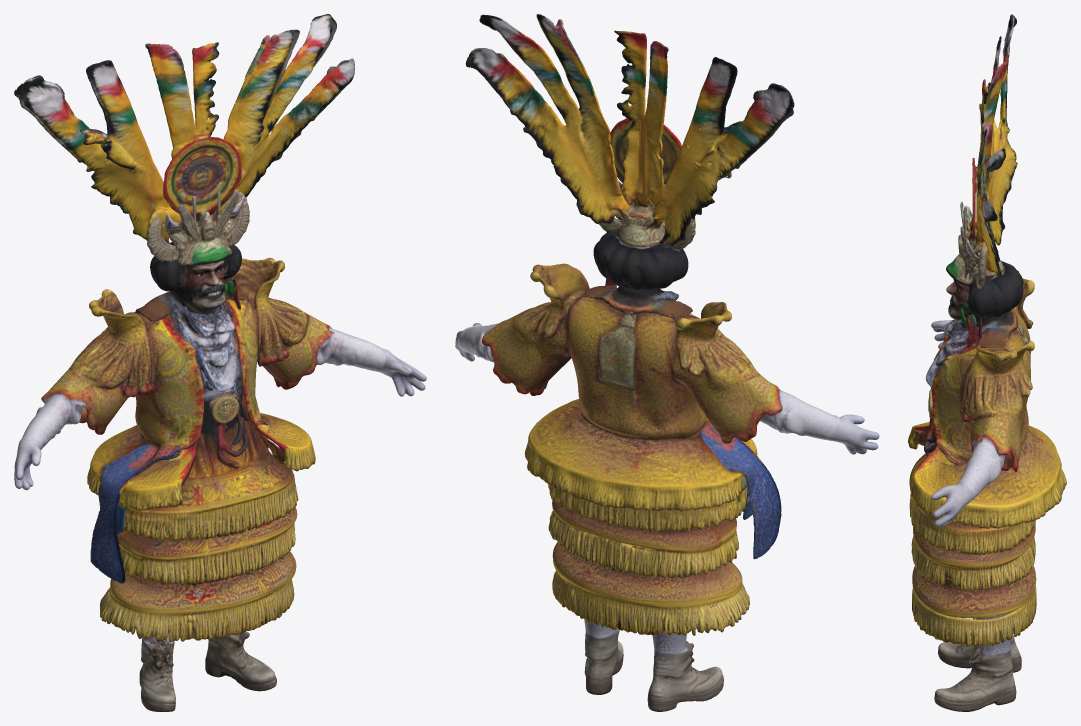
File: morenada.glb
The picture shows the model from 3 angles, left to right: view 1: azimuth 30°, elevation 25°; view 2: azimuth 150°, elevation 25°; view 3: azimuth 270°, elevation 25°; orthographic projection. The views are drawn at different scales.
Visible parts, largest first — view 1: tripo_node_0dbcd35a-a98e-4571-8b20-d5174d5e6491; view 2: tripo_node_0dbcd35a-a98e-4571-8b20-d5174d5e6491; view 3: tripo_node_0dbcd35a-a98e-4571-8b20-d5174d5e6491.
Part boxes in pixels (box(x1,y1,x2,y2)): tripo_node_0dbcd35a-a98e-4571-8b20-d5174d5e6491: box(14, 14, 426, 711); tripo_node_0dbcd35a-a98e-4571-8b20-d5174d5e6491: box(455, 14, 879, 711); tripo_node_0dbcd35a-a98e-4571-8b20-d5174d5e6491: box(908, 14, 1066, 711).
Size of the model in its own units: 0.6664 by 1 by 0.2367.
Materials: 1 (1 with a texture image).
